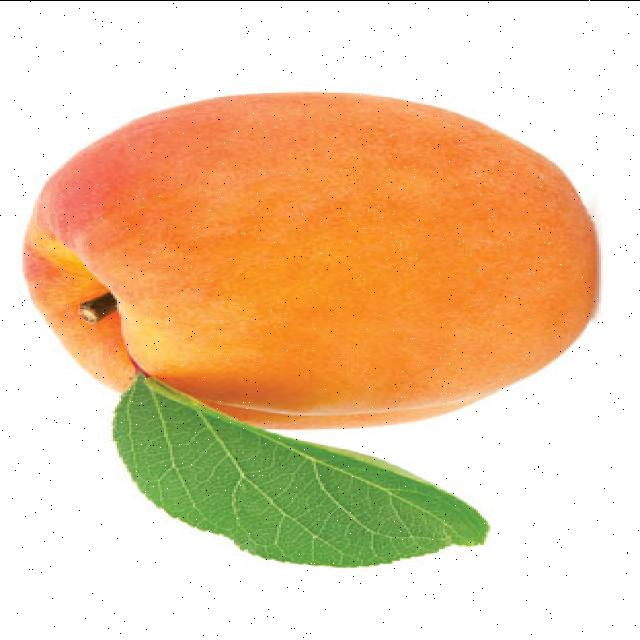Kayisi: (25, 92, 593, 428)
Yaprak: (113, 375, 488, 565)
